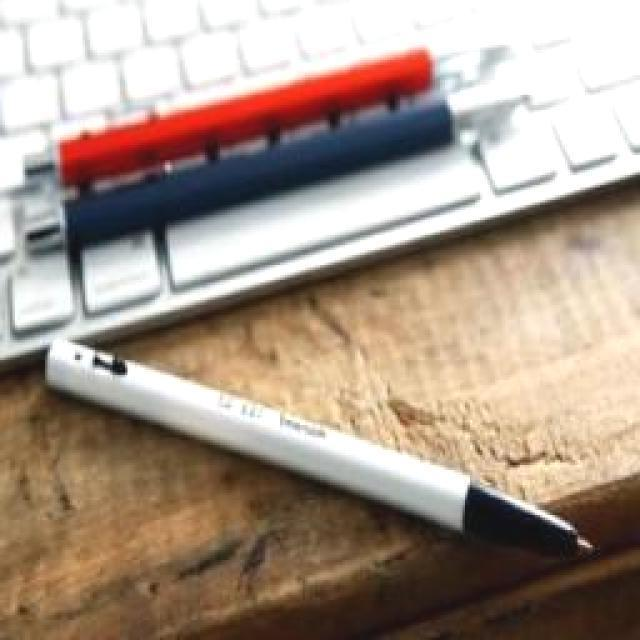pen: (37, 338, 600, 571)
